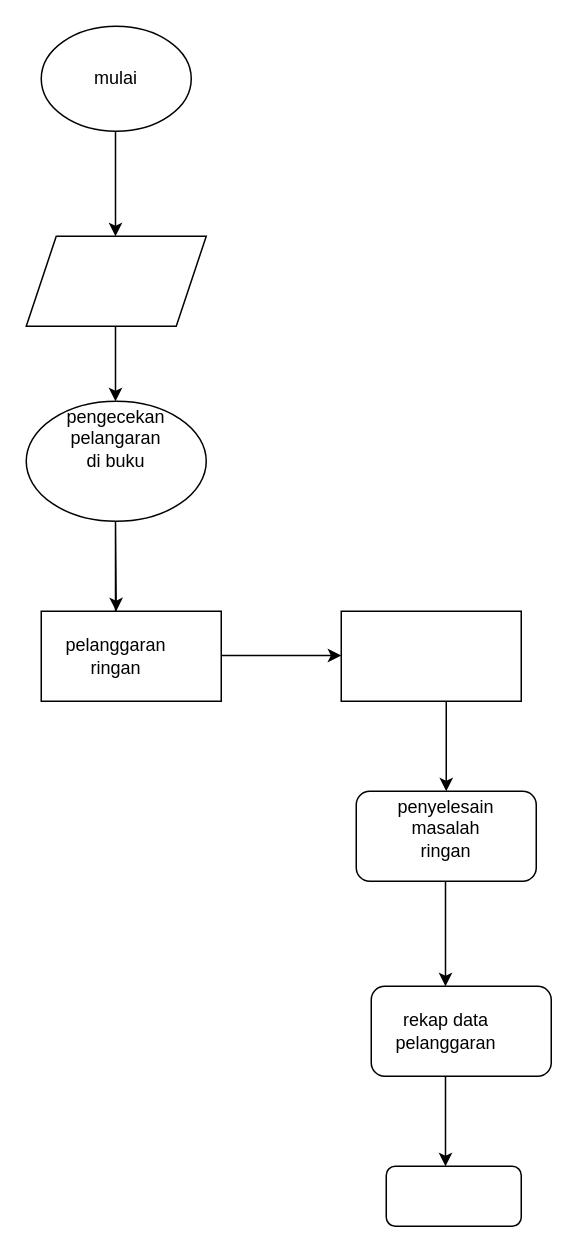
The diagram is 578 pixels wide and 1253 high, and some of its shapes have lost their labels. Each missing label, with the centre of its shape:
mencatat pelangaran dibuku: [115,280]
pelanggaran berat: [430,655]
selesai: [453,1195]
